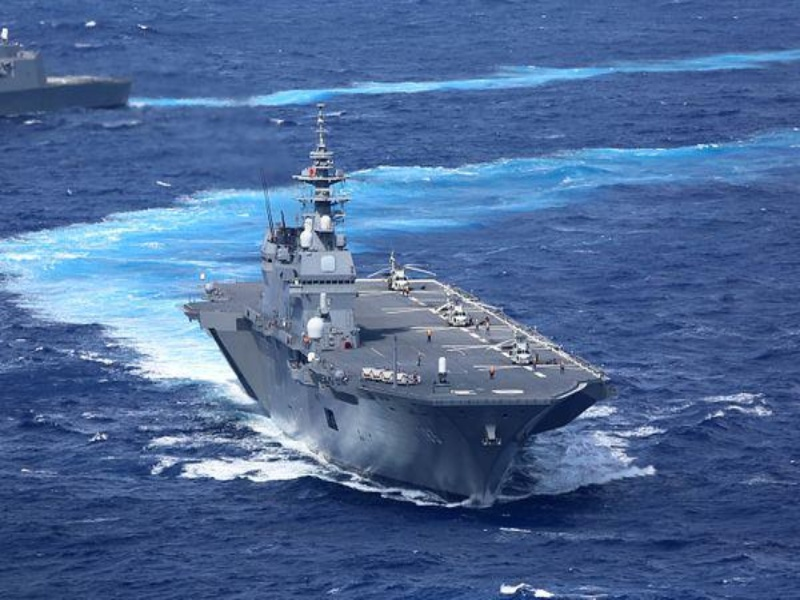carrier: (208, 177, 605, 512)
cruise: (2, 41, 133, 106)
